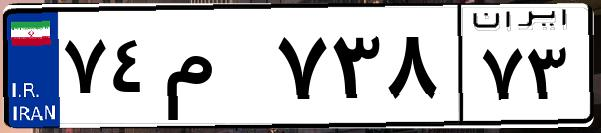3: (330, 28, 385, 110), (525, 38, 570, 115)
4: (110, 28, 158, 98)
7: (270, 28, 330, 110), (57, 26, 110, 100), (475, 38, 525, 113)
8: (385, 28, 445, 110)
م: (158, 20, 270, 120)
